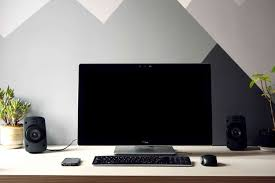keyboard: (90, 153, 195, 169)
monitor: (73, 59, 217, 154)
mouse: (200, 152, 219, 168)
